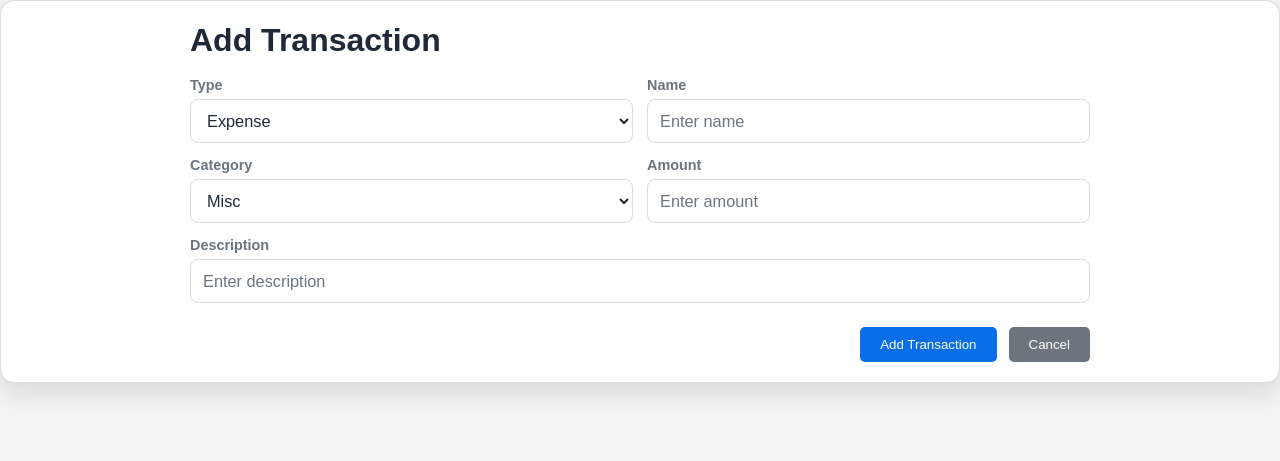
Test case: AddTransaction › shows API errors
Type "Dinner" into the field with placeholder "Enter name" at (868, 121), box [647,99,1090,143]
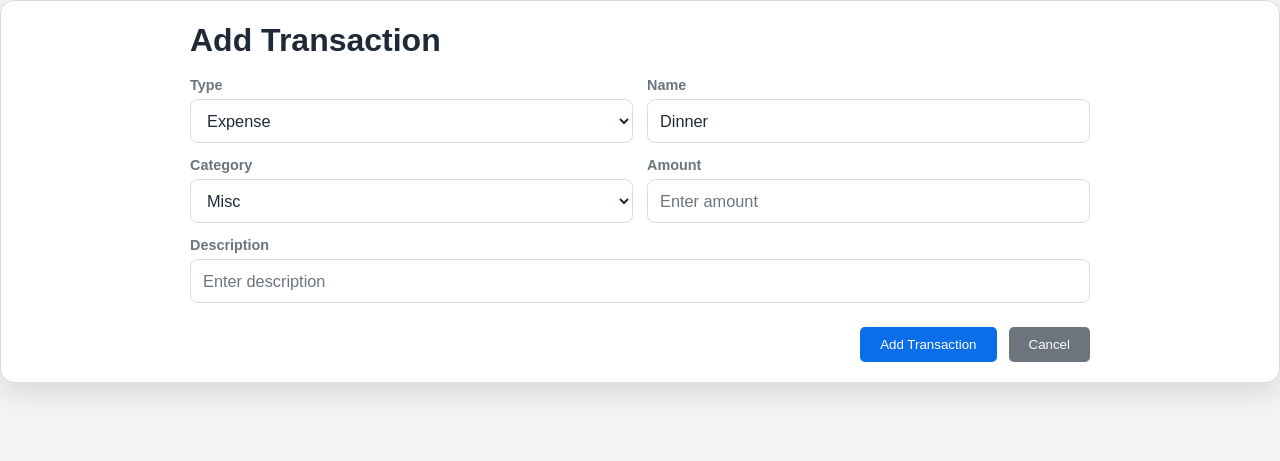
Select "Food" in the dropdown labelled "Category" at (412, 201), box [190,179,633,223]
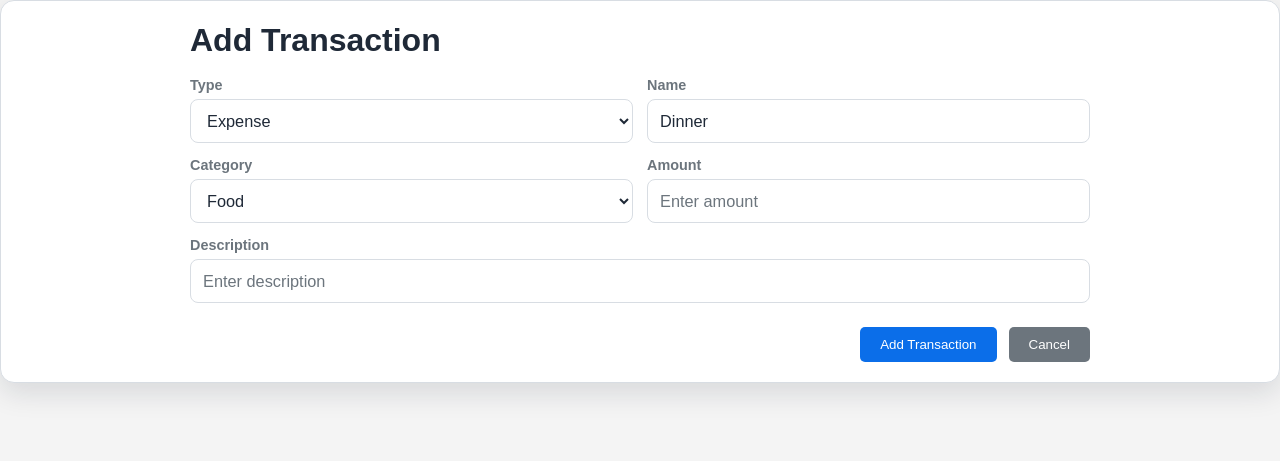
Type "40" into the number field with placeholder "Enter amount" at (868, 201), box [647,179,1090,223]
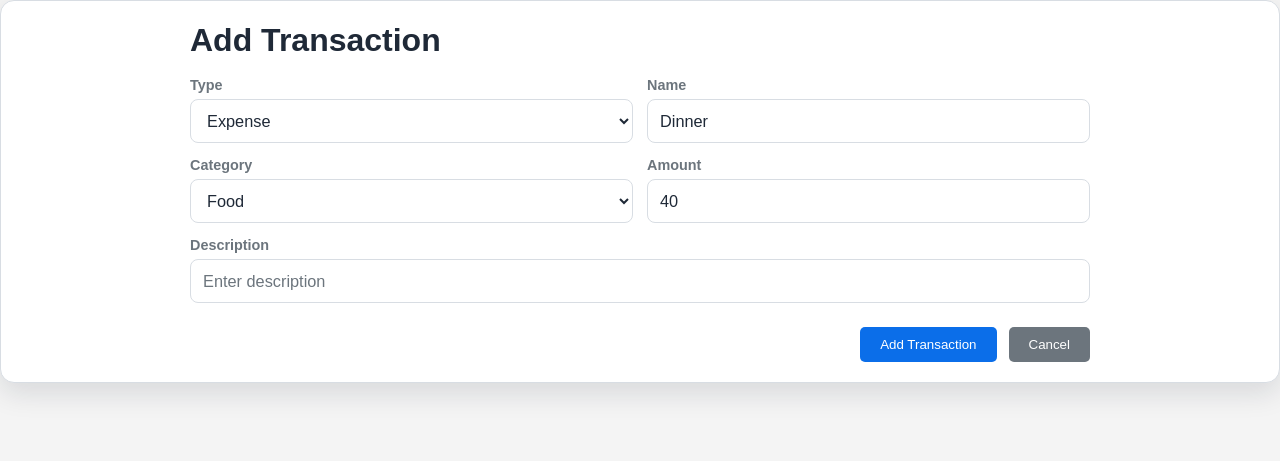
Click the button "Add Transaction" at (928, 345), box [860,327,996,362]
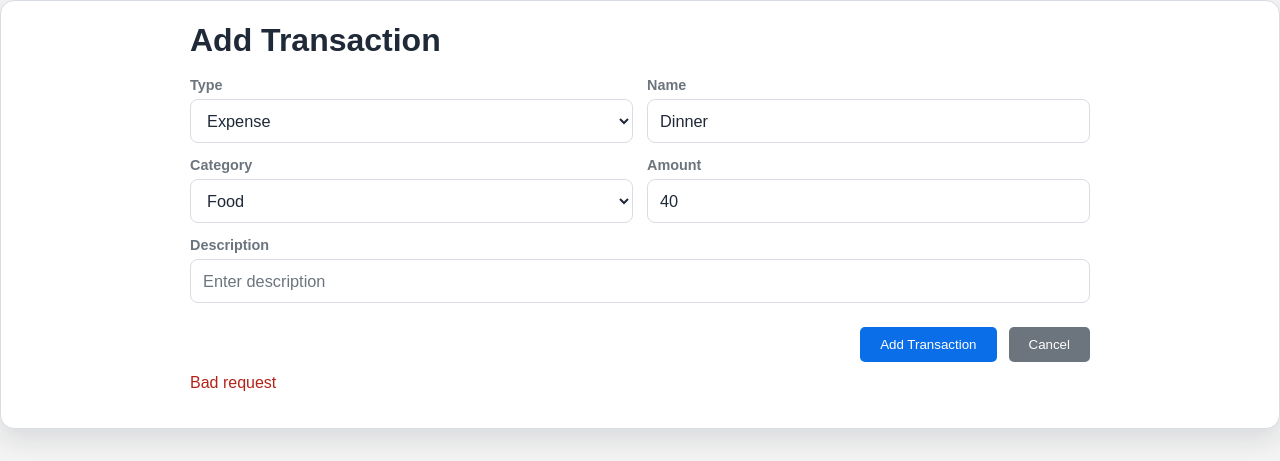
Now the text "Bad request" is shown, box [190,374,276,391]
